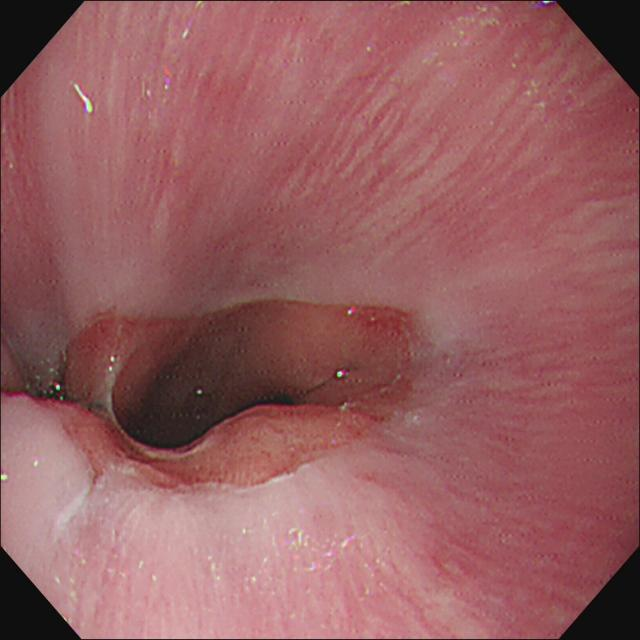I: (2, 274, 436, 517)
U: (284, 527, 368, 574), (71, 79, 98, 117), (43, 376, 66, 401), (335, 366, 350, 382), (347, 305, 360, 317)
